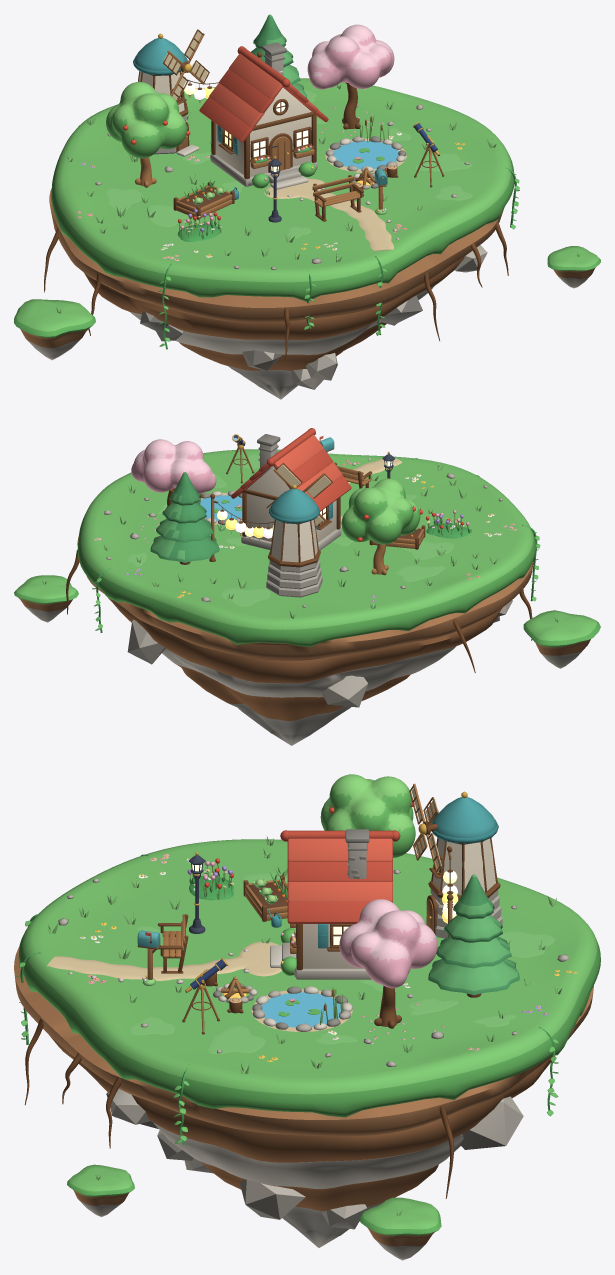
File: island.glb
3 renders of one model, top to bottom at view 1: azimuth 30°, elevation 25°; view 2: azimuth 150°, elevation 25°; view 3: azimuth 270°, elevation 25°, orthographic. The views are drawn at different scales.
Parts seen in each view (by area): view 1: IslandBody, IslandDecor, CottageBody, Roof, Canopy_TreeRound, Canopy_TreeBlossom, FloatRock1, WindmillBody, FloatRock3, GardenBed, PondRim, Water (+6 smaller); view 2: IslandBody, IslandDecor, WindmillBody, Canopy_TreeRound, Roof, Canopy_Pine, Canopy_TreeBlossom, CottageBody, FloatRock1, FloatRock2, Blades, FlowerPatch (+4 smaller); view 3: IslandBody, IslandDecor, Roof, Canopy_Pine, WindmillBody, Canopy_TreeBlossom, Canopy_TreeRound, CottageBody, FloatRock2, FloatRock3, PondRim, Water (+7 smaller).
Boxes of the visible parts, left/top/right/bottom form: IslandBody: left=49, top=78, right=514, bottom=399; IslandDecor: left=44, top=83, right=519, bottom=389; CottageBody: left=210, top=88, right=317, bottom=189; Roof: left=199, top=42, right=328, bottom=142; Canopy_TreeRound: left=106, top=82, right=190, bottom=158; Canopy_TreeBlossom: left=307, top=24, right=394, bottom=89; FloatRock1: left=14, top=299, right=95, bottom=360; WindmillBody: left=133, top=33, right=199, bottom=156; FloatRock3: left=547, top=246, right=600, bottom=288; GardenBed: left=173, top=179, right=234, bottom=219; PondRim: left=325, top=114, right=406, bottom=172; Water: left=333, top=141, right=398, bottom=169; IslandBody: left=77, top=449, right=536, bottom=745; IslandDecor: left=66, top=454, right=540, bottom=707; WindmillBody: left=266, top=484, right=322, bottom=597; Canopy_TreeRound: left=341, top=478, right=422, bottom=544; Roof: left=231, top=428, right=351, bottom=511; Canopy_Pine: left=150, top=472, right=219, bottom=562; Canopy_TreeBlossom: left=131, top=439, right=216, bottom=493; CottageBody: left=241, top=466, right=341, bottom=550; FloatRock1: left=523, top=610, right=600, bottom=668; FloatRock2: left=14, top=575, right=78, bottom=622; Blades: left=266, top=463, right=332, bottom=526; FlowerPatch: left=426, top=510, right=471, bottom=538; IslandBody: left=14, top=839, right=600, bottom=1247; IslandDecor: left=16, top=836, right=577, bottom=1229; Roof: left=280, top=829, right=400, bottom=923; Canopy_Pine: left=428, top=874, right=519, bottom=995; WindmillBody: left=426, top=791, right=502, bottom=938; Canopy_TreeBlossom: left=339, top=899, right=437, bottom=988; Canopy_TreeRound: left=320, top=774, right=415, bottom=857; CottageBody: left=270, top=924, right=371, bottom=979; FloatRock2: left=359, top=1197, right=441, bottom=1260; FloatRock3: left=67, top=1164, right=134, bottom=1217; PondRim: left=251, top=986, right=352, bottom=1031; Water: left=261, top=992, right=342, bottom=1027.
Bounding box in the file's own units: 16.45 × 9.91 × 12.29.
